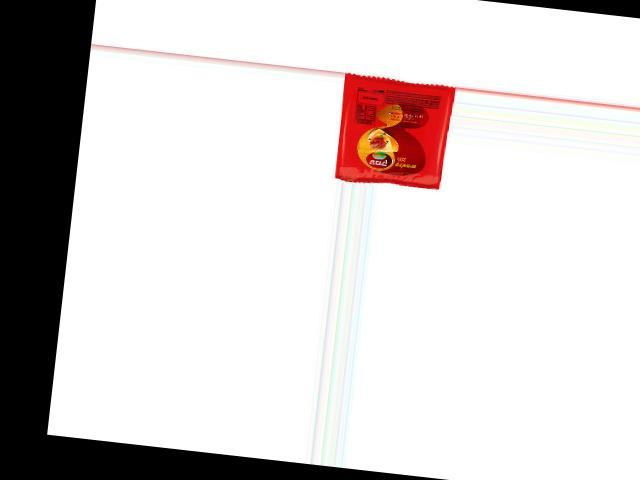cheese: (332, 72, 452, 190)
